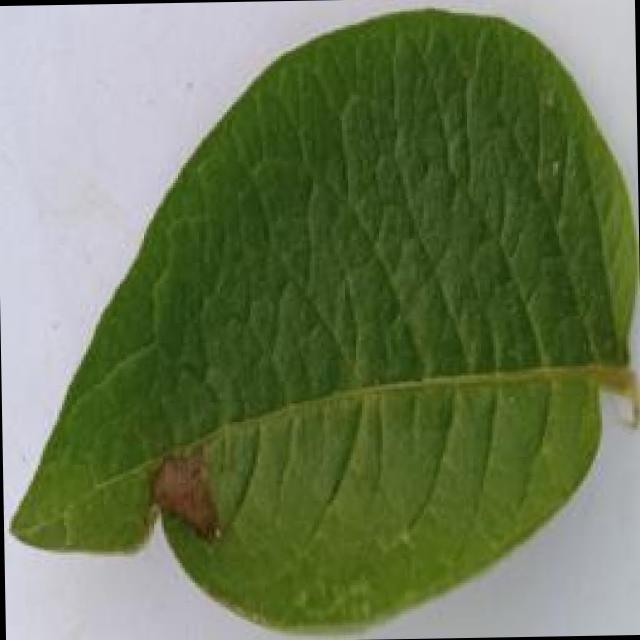Potato_Late_Blight: (4, 4, 634, 638)
